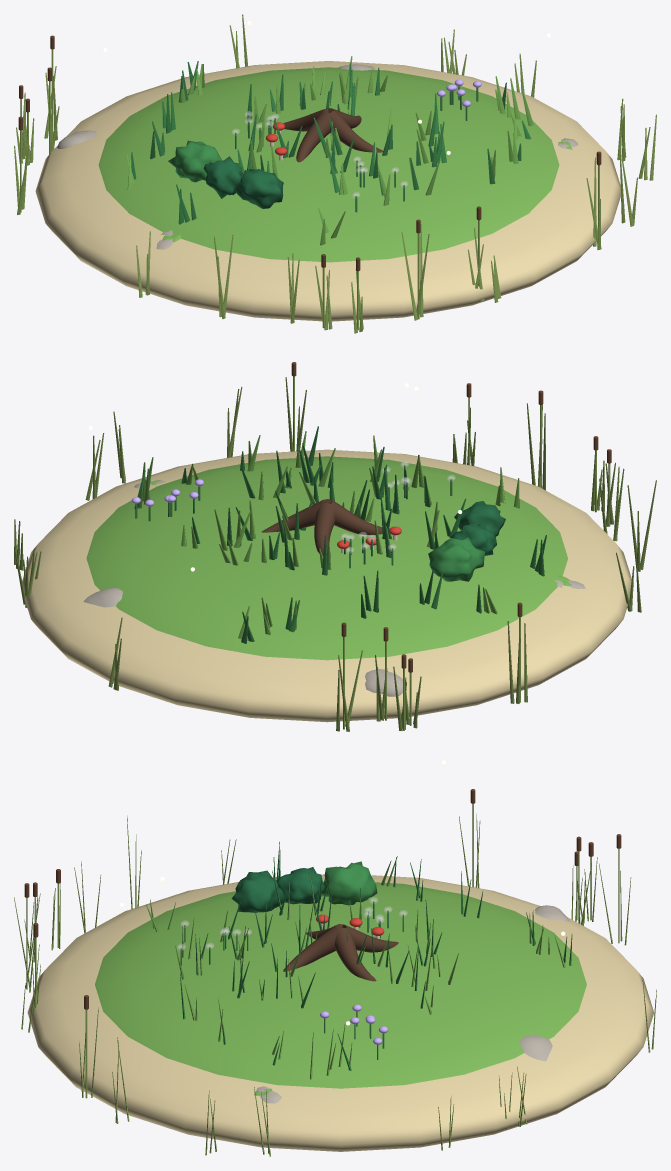
File: islet_13.glb
The picture shows the model from 3 angles, top to bottom: view 1: azimuth 30°, elevation 25°; view 2: azimuth 150°, elevation 25°; view 3: azimuth 270°, elevation 25°; orthographic projection. The views are drawn at different scales.
Visible parts, largest first — view 1: islet_grass.013, islet_sand.013, bush.041, bush.039, bush.040, root.054, root.055; view 2: islet_grass.013, islet_sand.013, bush.039, bush.041, root.054, root.053, bush.040, rock.079, root.052, rock.081; view 3: islet_grass.013, islet_sand.013, bush.039, bush.041, bush.040, root.052, root.055, root.053, rock.081.
Part boxes in pixels (x1,y1,x2,y2): islet_grass.013: (98, 67, 559, 262); islet_sand.013: (35, 61, 620, 321); bush.041: (235, 169, 283, 208); bush.039: (168, 140, 222, 182); bush.040: (203, 156, 243, 198); root.054: (296, 111, 331, 162); root.055: (328, 110, 382, 152); islet_grass.013: (86, 456, 567, 660); islet_sand.013: (22, 449, 633, 722); bush.039: (428, 537, 485, 581); bush.041: (454, 501, 505, 536); root.054: (330, 500, 389, 534); root.053: (314, 503, 335, 557); bush.040: (450, 524, 496, 555); rock.079: (365, 668, 402, 696); root.052: (261, 500, 324, 532); rock.081: (83, 588, 122, 607); islet_grass.013: (95, 881, 586, 1088); islet_sand.013: (27, 874, 654, 1151); bush.039: (321, 861, 377, 905); bush.041: (231, 870, 284, 912); bush.040: (276, 867, 324, 904); root.052: (334, 928, 376, 981); root.055: (283, 925, 339, 971); root.053: (342, 924, 398, 952); rock.081: (519, 1035, 552, 1061).
Bounding box in the file's own units: 8.8 × 3.12 × 8.82.
